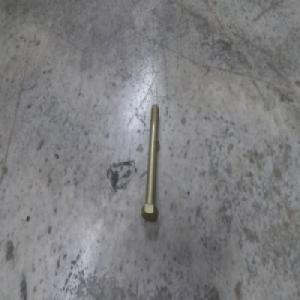Bolt: (141, 103, 159, 224)
